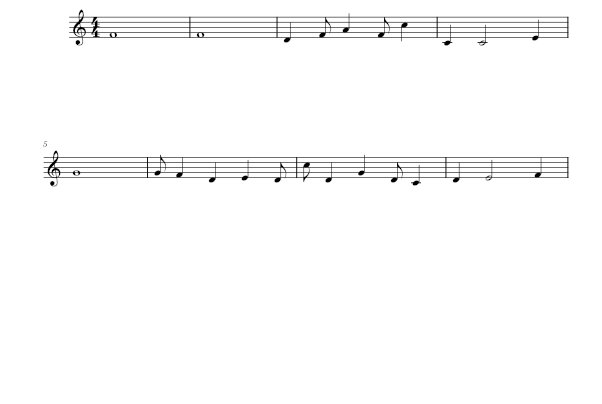Treble Clef: (44, 148, 63, 192), (70, 6, 88, 50)
